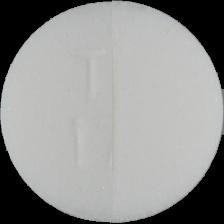59746-171: (0, 0, 224, 224)
